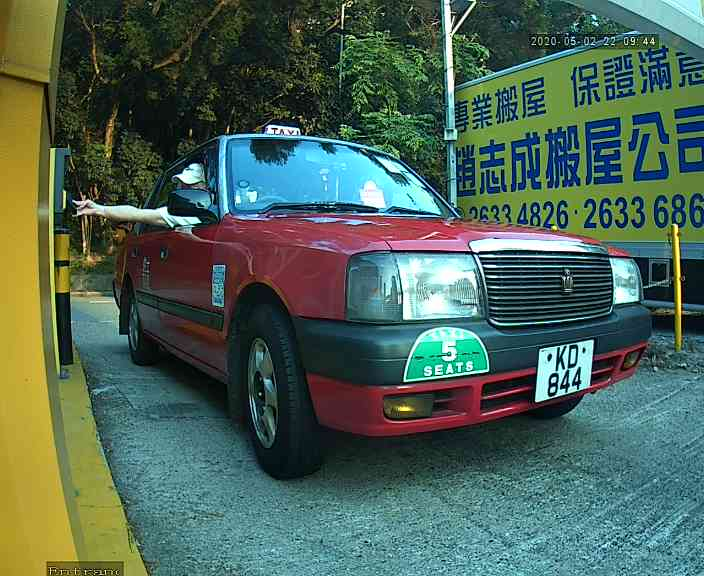taxi: (87, 104, 657, 508)
taxi_mark: (393, 312, 499, 398)
